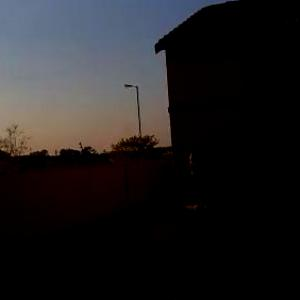follow: (167, 138, 237, 299)
